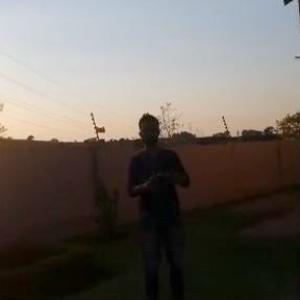follow: (120, 109, 203, 299)
